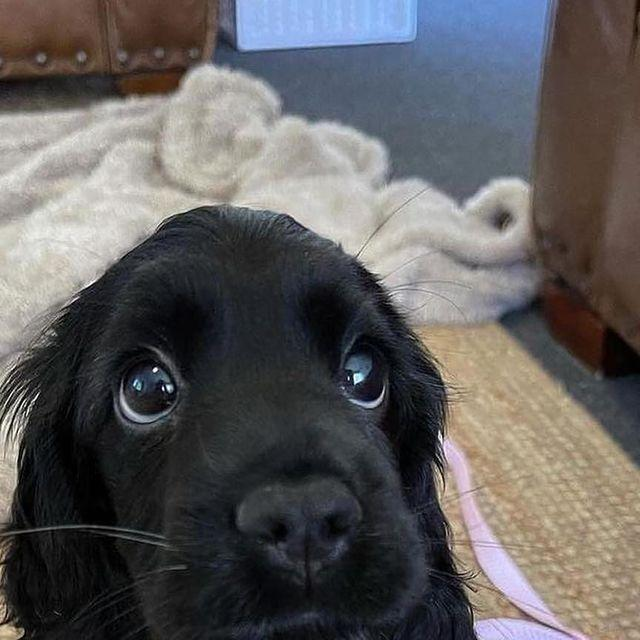puppy-dog: (2, 208, 479, 640)
